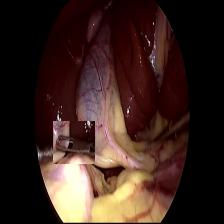Grasper: (53, 121, 95, 164), (154, 111, 184, 149)
